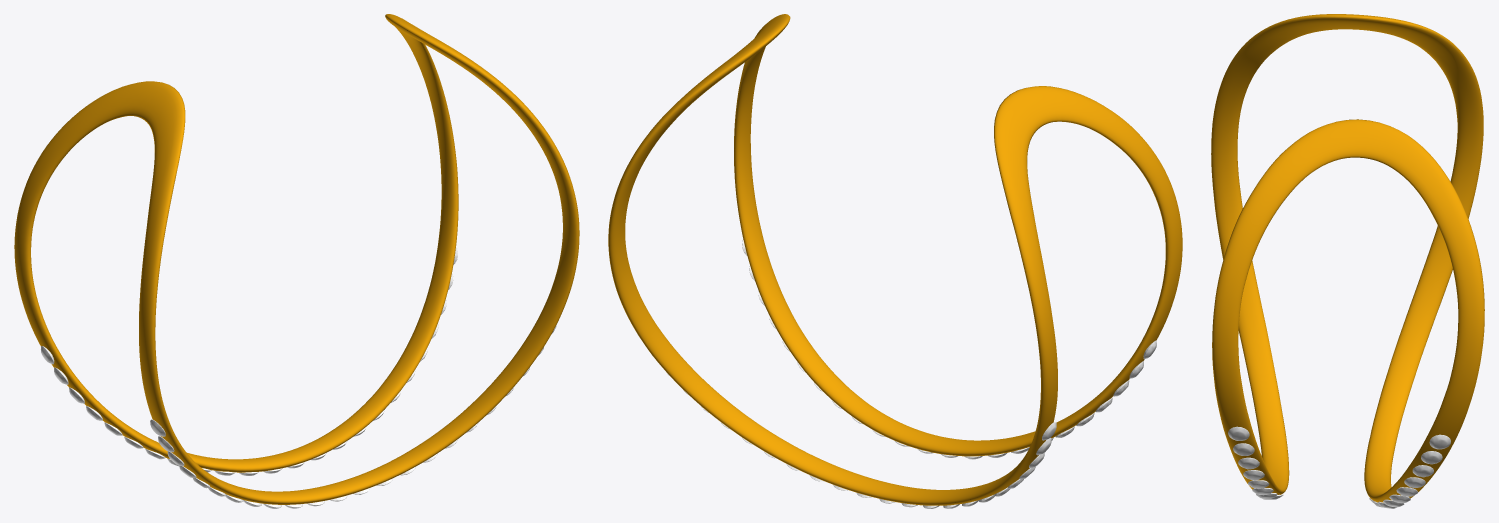
File: testNewEarring.glb
3 renders of one model, left to right at view 1: azimuth 30°, elevation 25°; view 2: azimuth 150°, elevation 25°; view 3: azimuth 270°, elevation 25°, orthographic. The views are drawn at different scales.
Visible parts, largest first — view 1: Group16049, Group25365; view 2: Group16049, Group25365; view 3: Group16049, Group25365.
Boxes of the visible parts, x1,y1,x2,y2 form: Group16049: [14, 14, 579, 504]; Group25365: [41, 247, 556, 508]; Group16049: [608, 14, 1182, 505]; Group25365: [637, 239, 1156, 508]; Group16049: [1211, 14, 1484, 502]; Group25365: [1228, 426, 1450, 508].
Size of the model in its own units: 0.0205 by 0.0192 by 0.0114.
